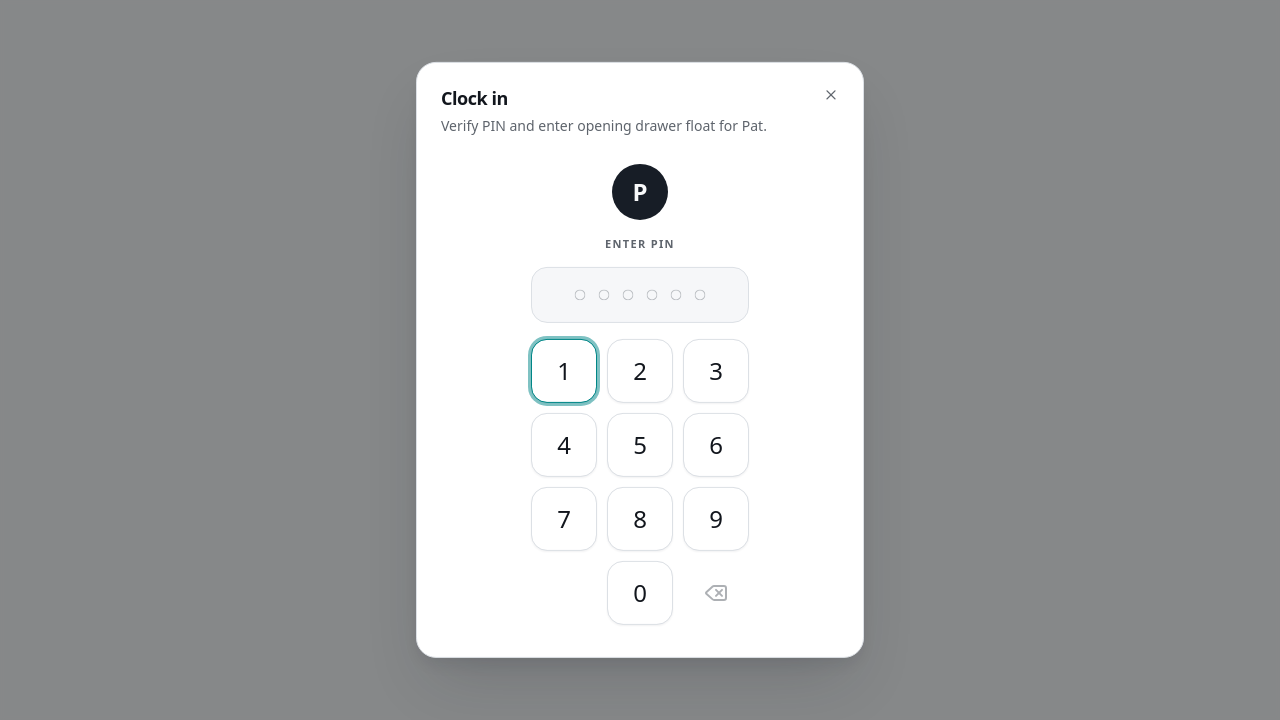
Test case: ClockInModal › shows the lockout message when INVALID_PIN arrives with a retry-after already armed
The image size is (1280, 720).
Click the button "9": click(716, 519) [683,487,749,551]
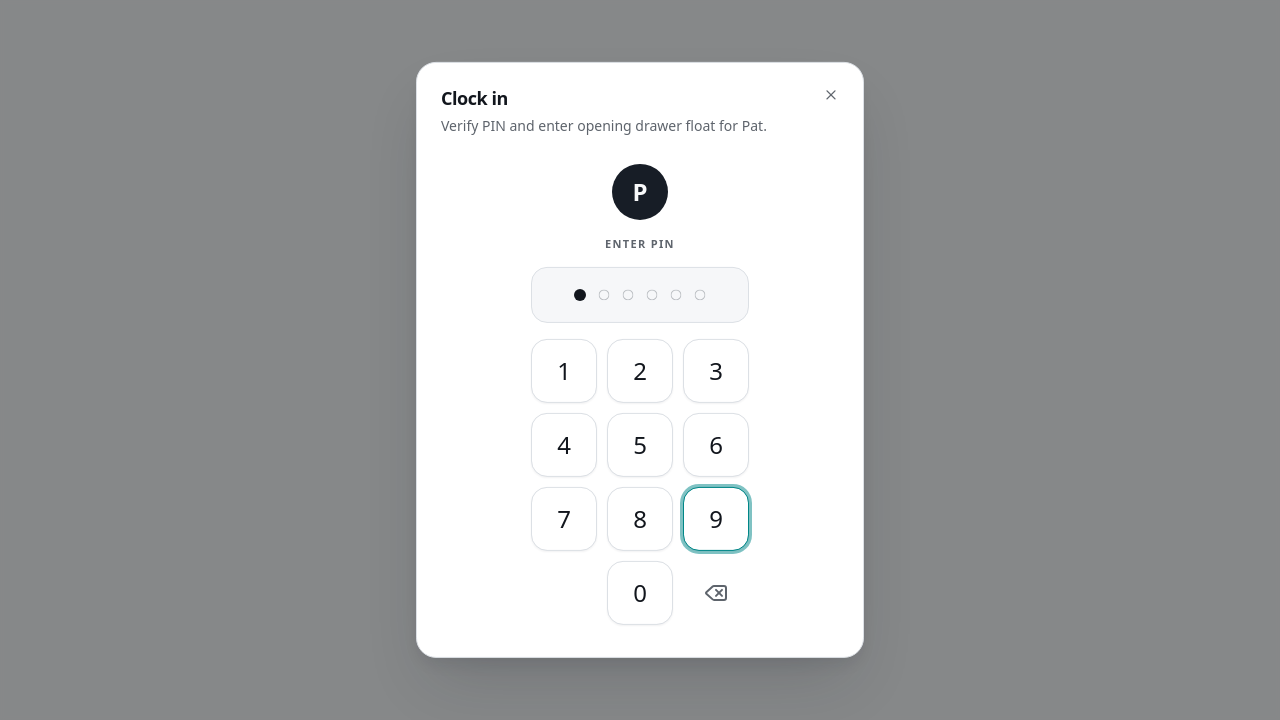
Click the button "9": click(716, 519) [683,487,749,551]
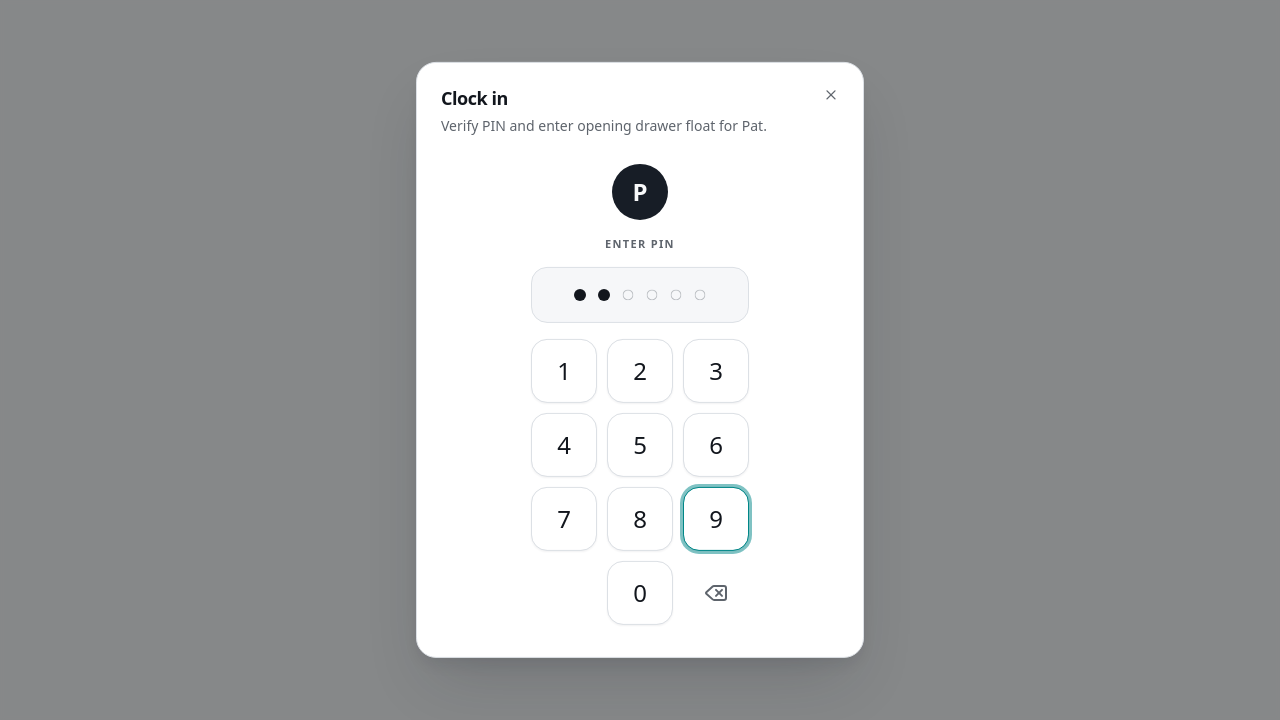
Click the button "9": click(716, 519) [683,487,749,551]
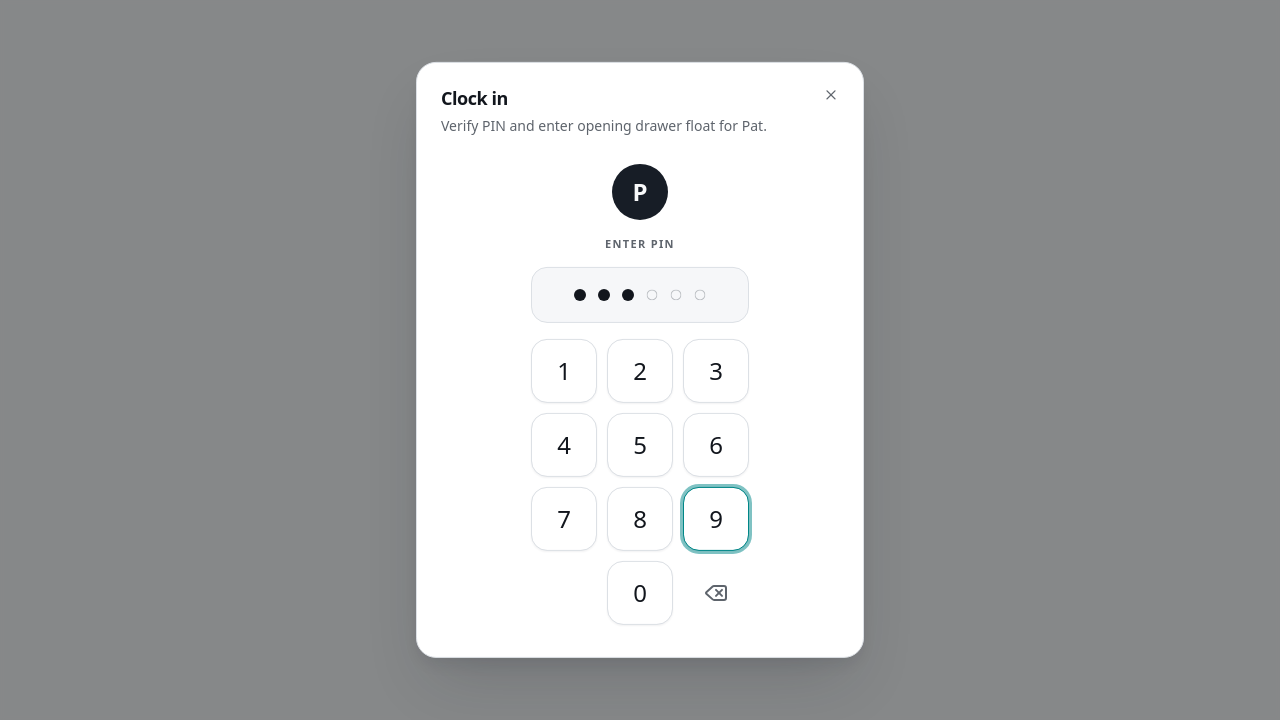
Click the button "9": click(716, 519) [683,487,749,551]
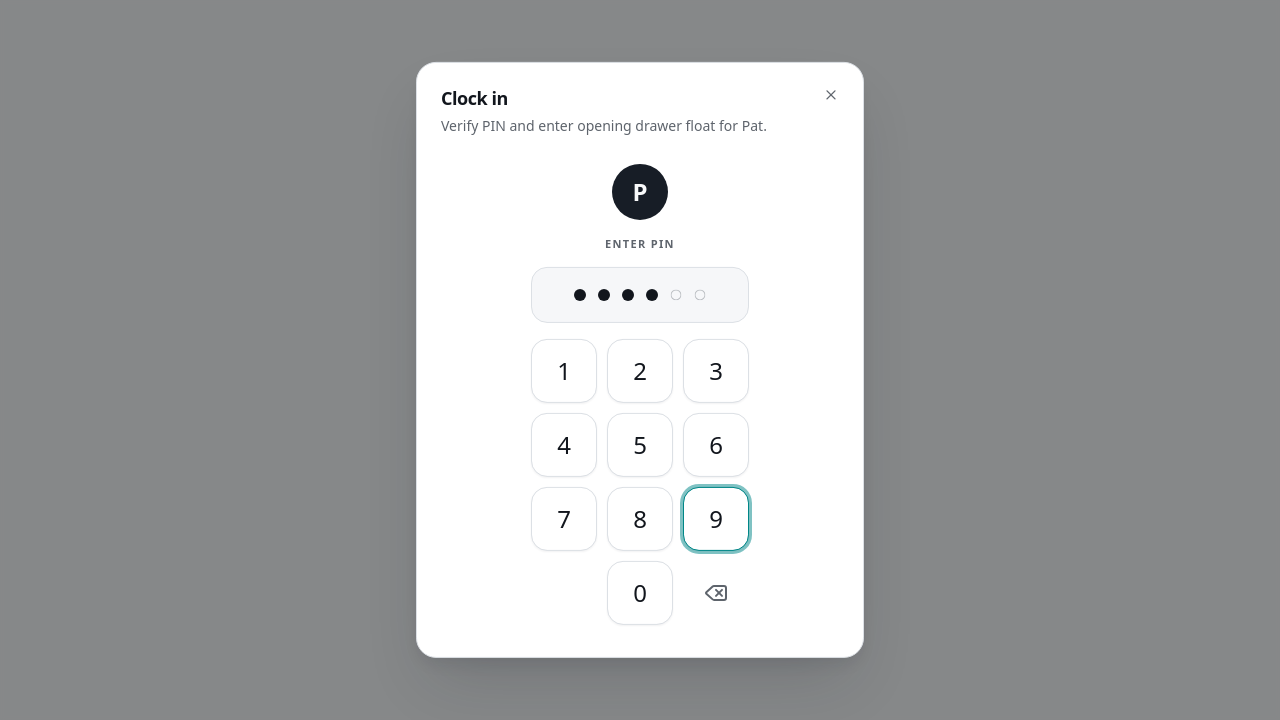
Click the button "9": click(716, 519) [683,487,749,551]
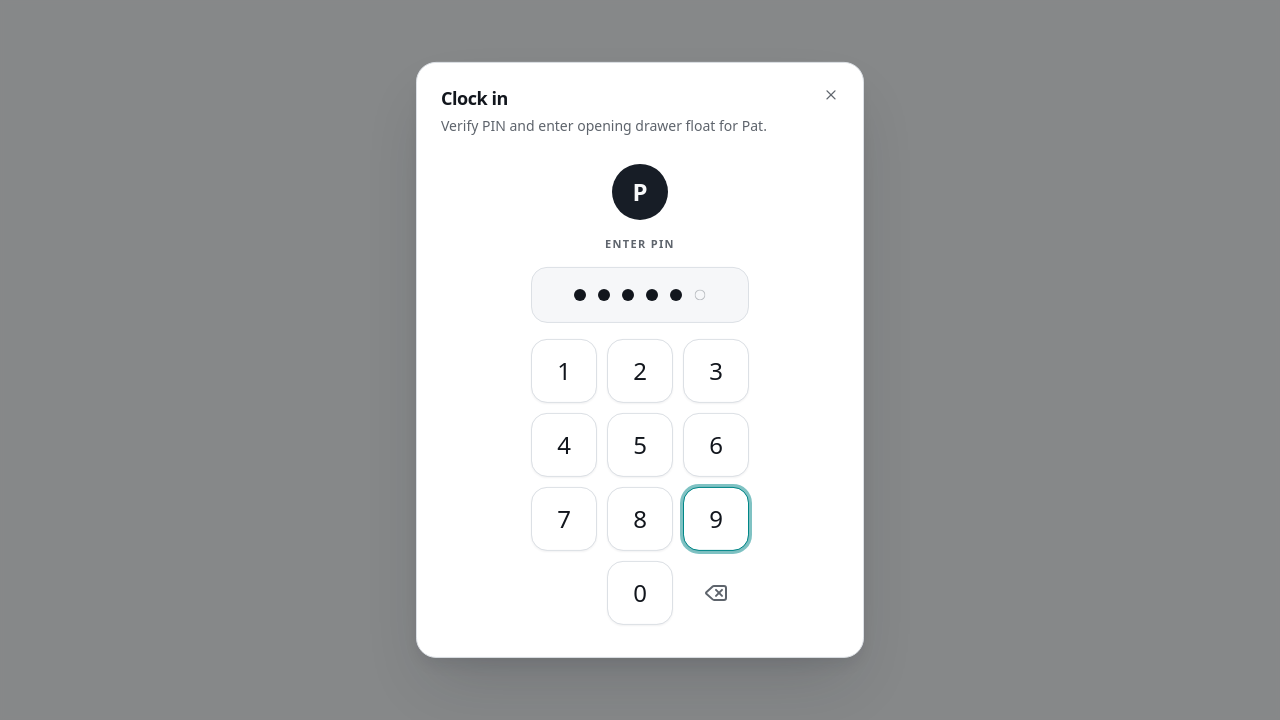
Click the button "9": click(716, 519) [683,487,749,551]
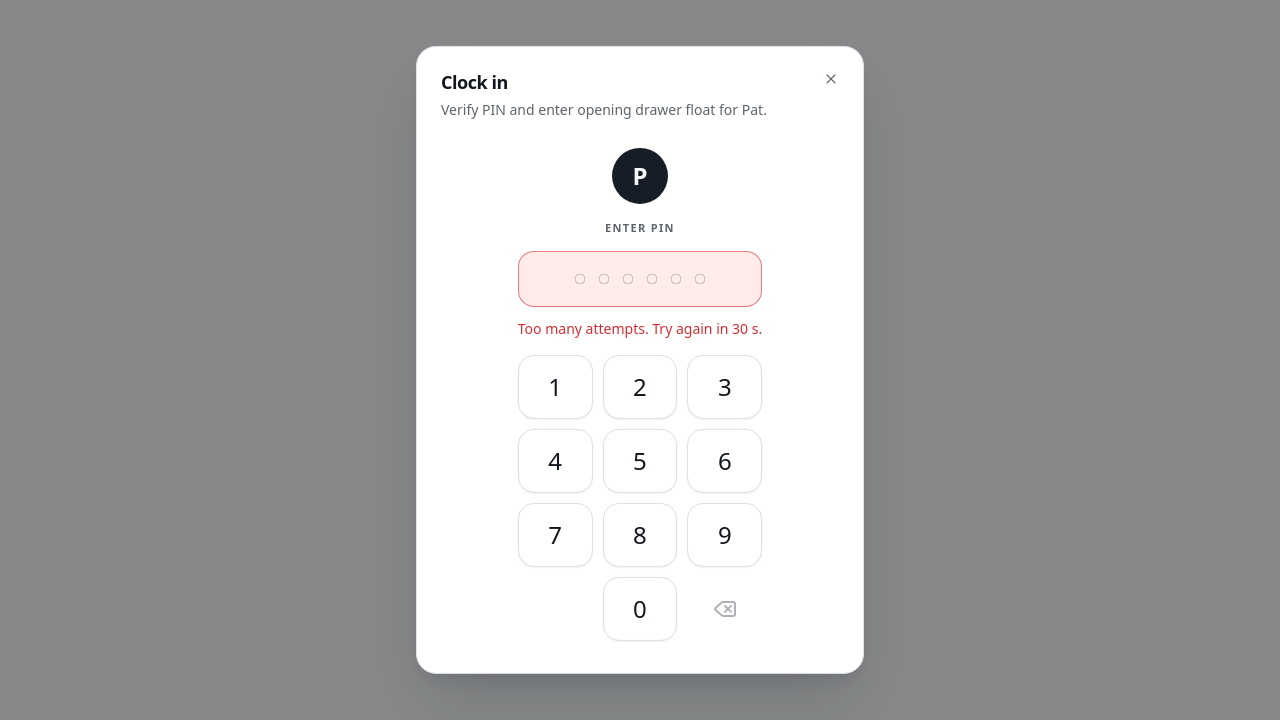
Expected: the text "Too many attempts. Try again in 30 s." is shown, [518,319,762,339]
